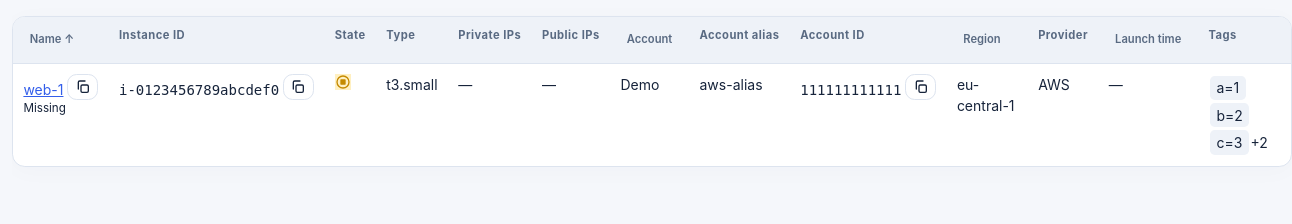
shows separate account fields for aws and copies the account ID
Check: the cell "Demo" is shown, box left=610, top=63, right=689, bottom=166
Check: the cell "Demo" does not show "111111111111", box left=610, top=63, right=689, bottom=166
Click the button named "Copy account ID 111111111111": coordinates (921, 87) left=905, top=74, right=936, bottom=100
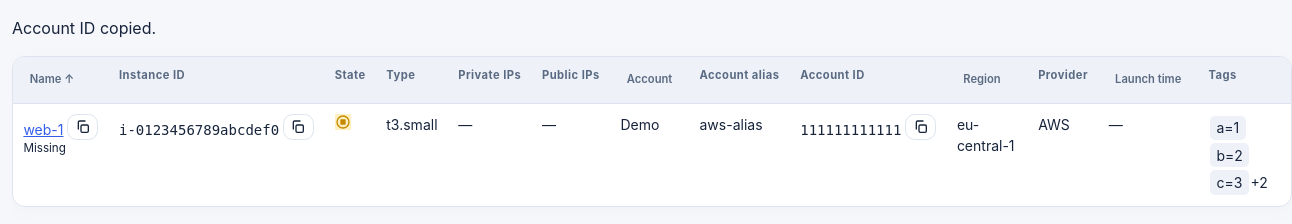
Check: the text "Account ID copied." is shown, box left=12, top=18, right=156, bottom=38
